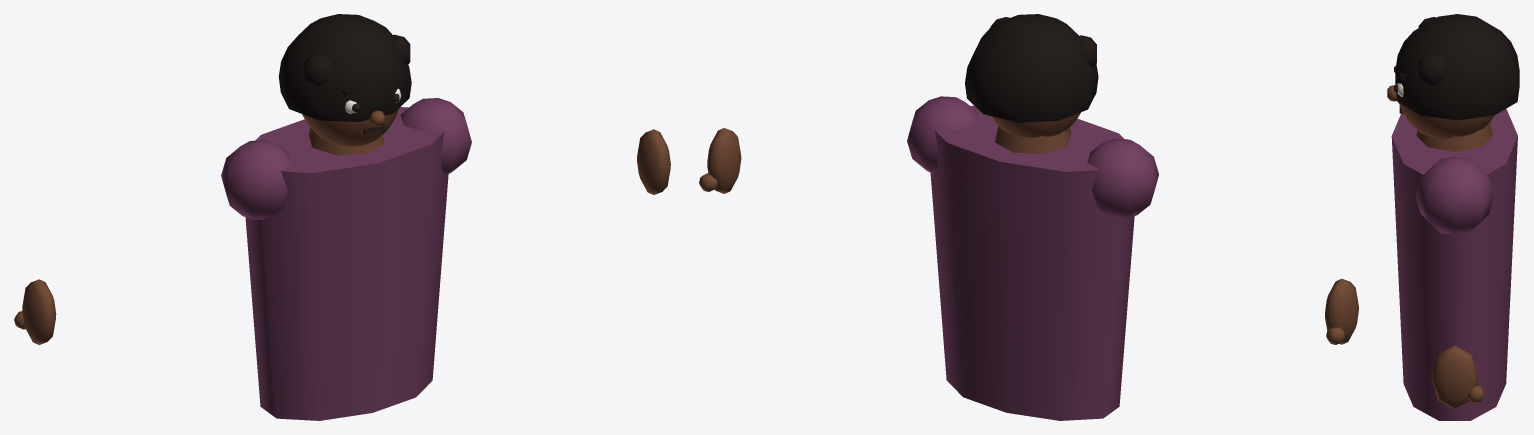
The model's file is avatar-plum.glb.
The picture shows the model from 3 angles, left to right: view 1: azimuth 30°, elevation 25°; view 2: azimuth 150°, elevation 25°; view 3: azimuth 270°, elevation 25°; orthographic projection. The views are drawn at different scales.
Visible parts, largest first — view 1: Torso, Hair, ShoulderR, ShoulderL, HandL, HandR, Skull, Collar, CurlR; view 2: Torso, Hair, ShoulderR, ShoulderL, HandL, HandR, Collar, Skull; view 3: Torso, Hair, ShoulderL, HandL, Skull, Collar, CurlL, HandL_Thumb.
Part boxes in pixels (left/top/right/bottom): Torso: left=245, top=107, right=448, bottom=420; Hair: left=278, top=14, right=411, bottom=121; ShoulderR: left=221, top=140, right=292, bottom=219; ShoulderL: left=400, top=98, right=471, bottom=174; HandL: left=637, top=129, right=670, bottom=194; HandR: left=22, top=279, right=56, bottom=344; Skull: left=302, top=109, right=398, bottom=146; Collar: left=308, top=127, right=384, bottom=155; CurlR: left=304, top=53, right=333, bottom=86; Torso: left=930, top=105, right=1134, bottom=420; Hair: left=965, top=14, right=1098, bottom=122; ShoulderR: left=1087, top=138, right=1158, bottom=218; ShoulderL: left=907, top=96, right=978, bottom=173; HandL: left=707, top=128, right=741, bottom=193; HandR: left=1325, top=278, right=1358, bottom=344; Collar: left=995, top=126, right=1071, bottom=154; Skull: left=992, top=112, right=1080, bottom=137; Torso: left=1391, top=108, right=1517, bottom=420; Hair: left=1395, top=14, right=1519, bottom=120; ShoulderL: left=1415, top=156, right=1494, bottom=235; HandL: left=1431, top=345, right=1478, bottom=409; Skull: left=1399, top=103, right=1494, bottom=138; Collar: left=1416, top=122, right=1493, bottom=151; CurlL: left=1418, top=53, right=1447, bottom=86; HandL_Thumb: left=1467, top=385, right=1484, bottom=402.
Size of the model in its own units: 1.37 by 0.764 by 0.2511.
